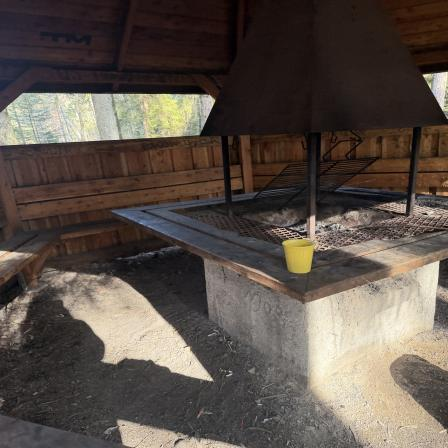yellow_cup: (280, 237, 318, 276)
